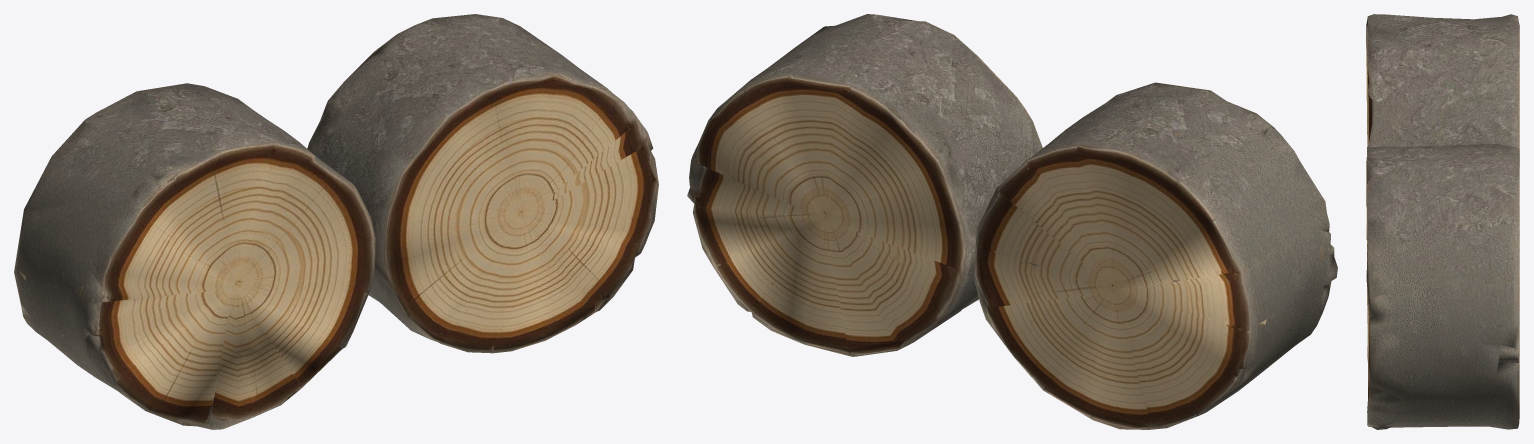
File: split_log_halves.glb
3 renders of one model, left to right at view 1: azimuth 30°, elevation 25°; view 2: azimuth 150°, elevation 25°; view 3: azimuth 270°, elevation 25°, orthographic. The views are drawn at different scales.
Size of the model in its own units: 0.9502 by 0.4477 by 0.2418.
Materials: 1 (1 with a texture image).
